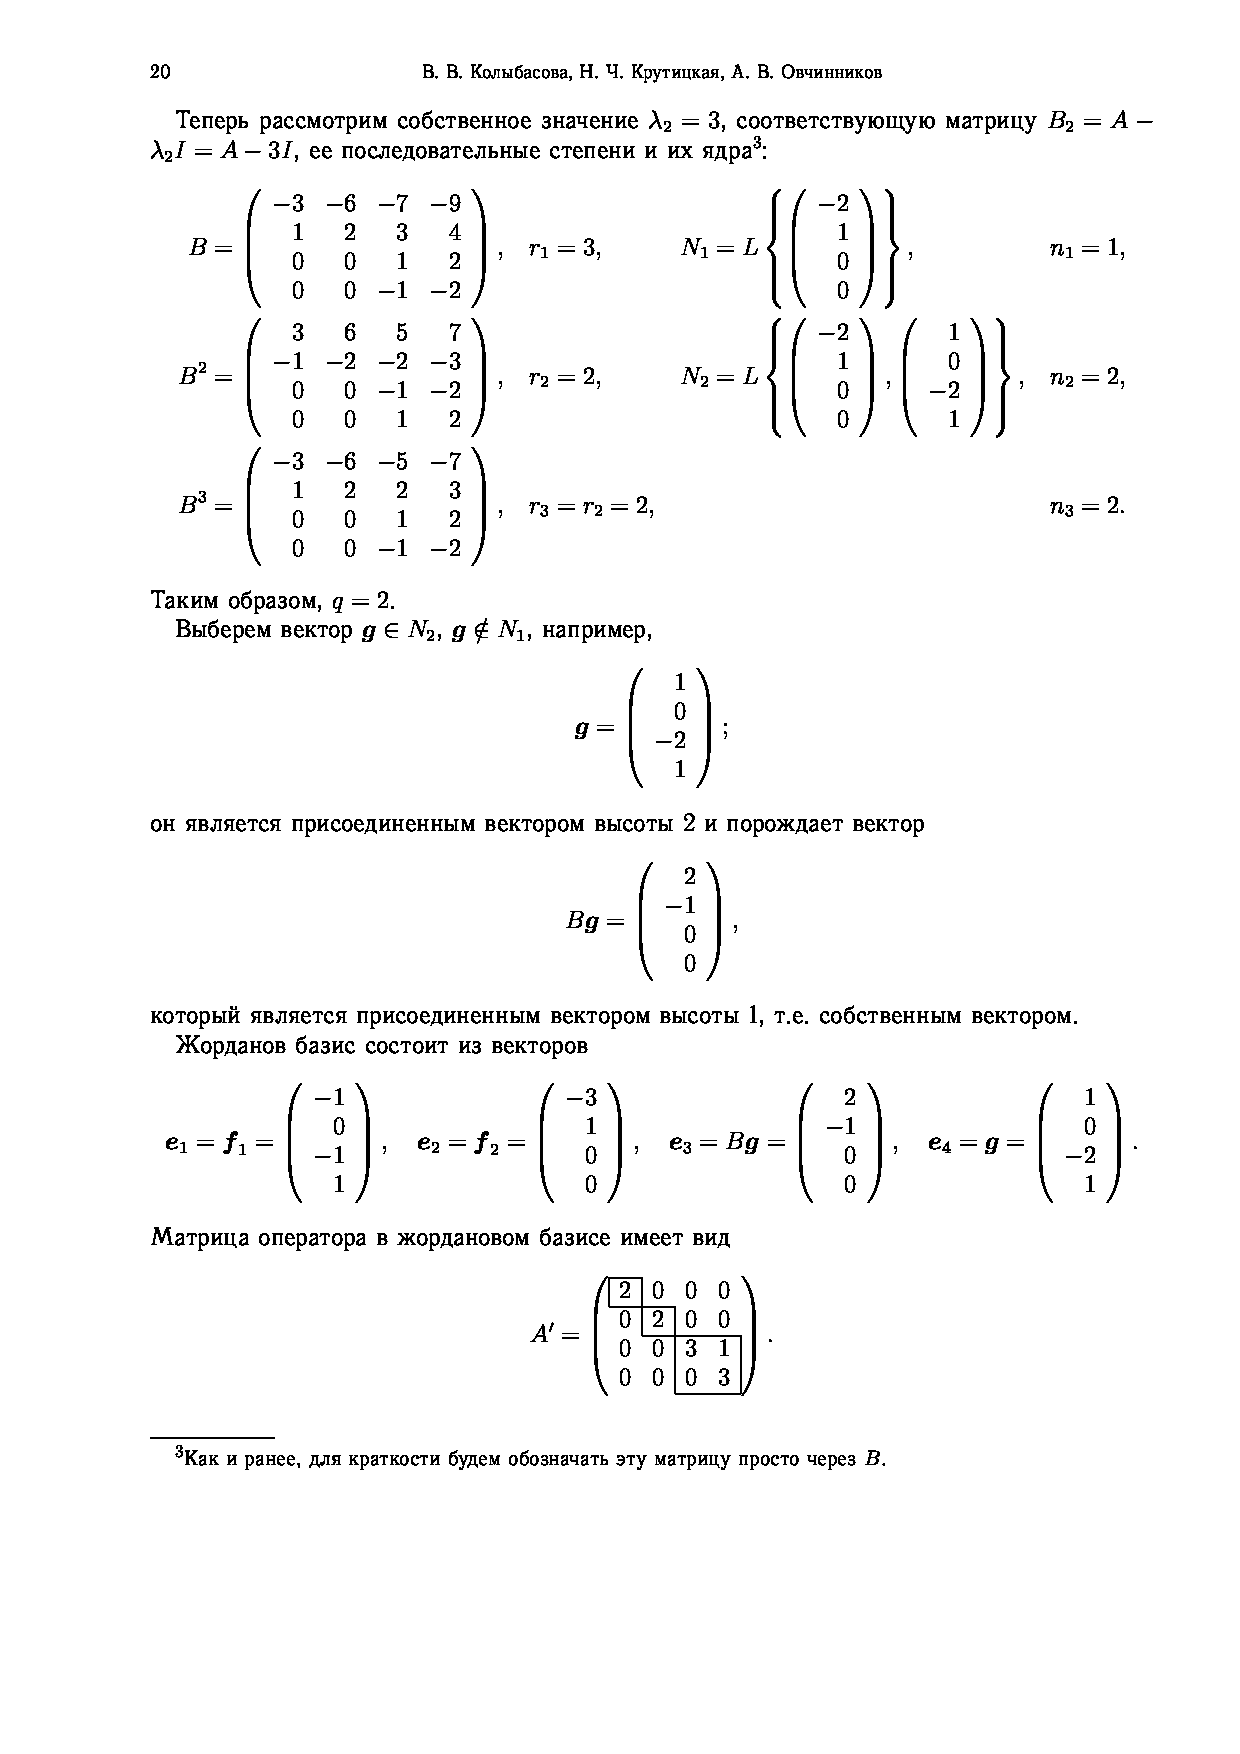pMatrix: (242, 184, 491, 315), (246, 440, 488, 570), (244, 315, 488, 437), (593, 1275, 757, 1398), (790, 183, 880, 315), (790, 315, 879, 447), (794, 1078, 884, 1206), (1035, 1082, 1125, 1209), (537, 1080, 624, 1210), (628, 666, 713, 794), (900, 315, 986, 442), (637, 860, 723, 984), (289, 1082, 368, 1206)
